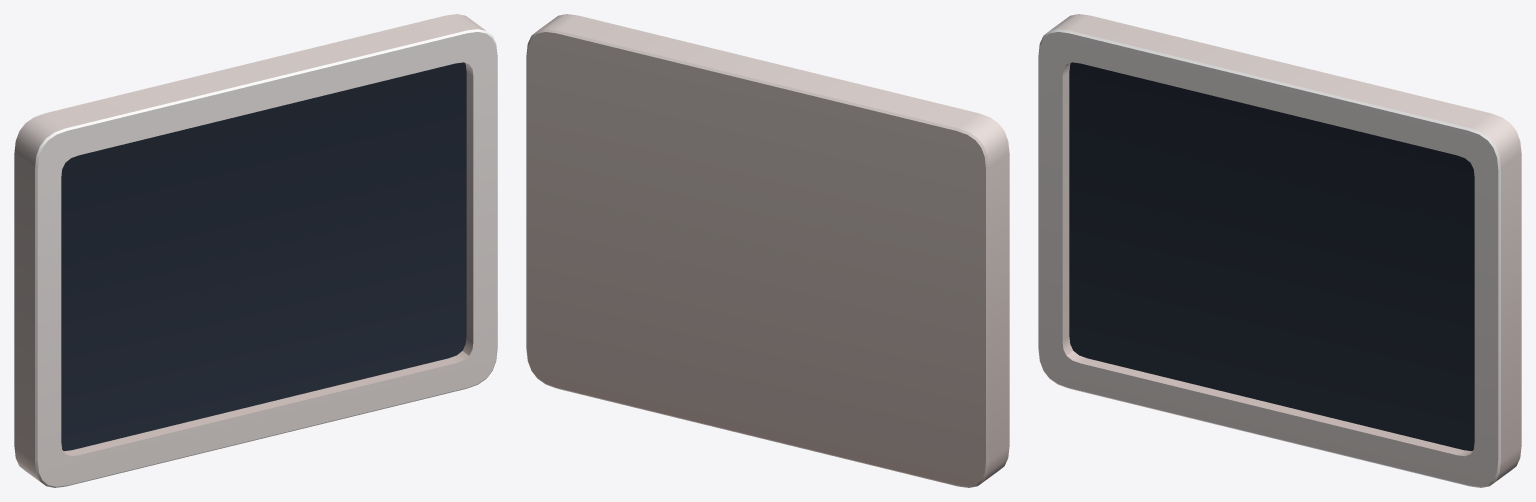
Rendered from AR_Board_Tutorial_001.FBX.
3 views of the same model, side by side, from view 1: azimuth 30°, elevation 25°; view 2: azimuth 150°, elevation 25°; view 3: azimuth 330°, elevation 25° (orthographic).
Visible parts, largest first — view 1: AR_Board_Tutorial_001; view 2: AR_Board_Tutorial_001; view 3: AR_Board_Tutorial_001.
Part boxes in pixels (x1,y1,x2,y2): AR_Board_Tutorial_001: [14, 14, 497, 487]; AR_Board_Tutorial_001: [526, 14, 1009, 487]; AR_Board_Tutorial_001: [1038, 14, 1521, 487].
Bounding box in the file's own units: 181 × 134 × 15.43.
